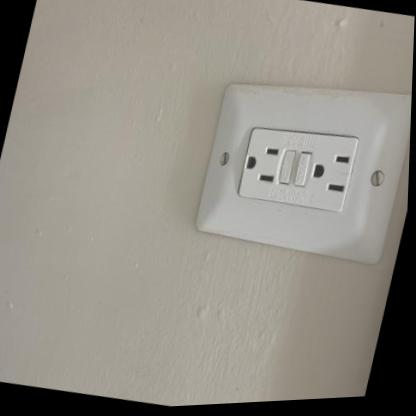OUTLET: (187, 63, 413, 275)
